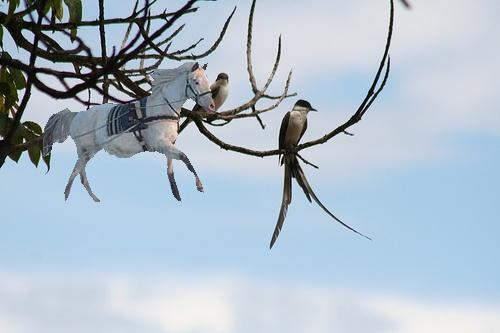tampered: (44, 63, 215, 202)
